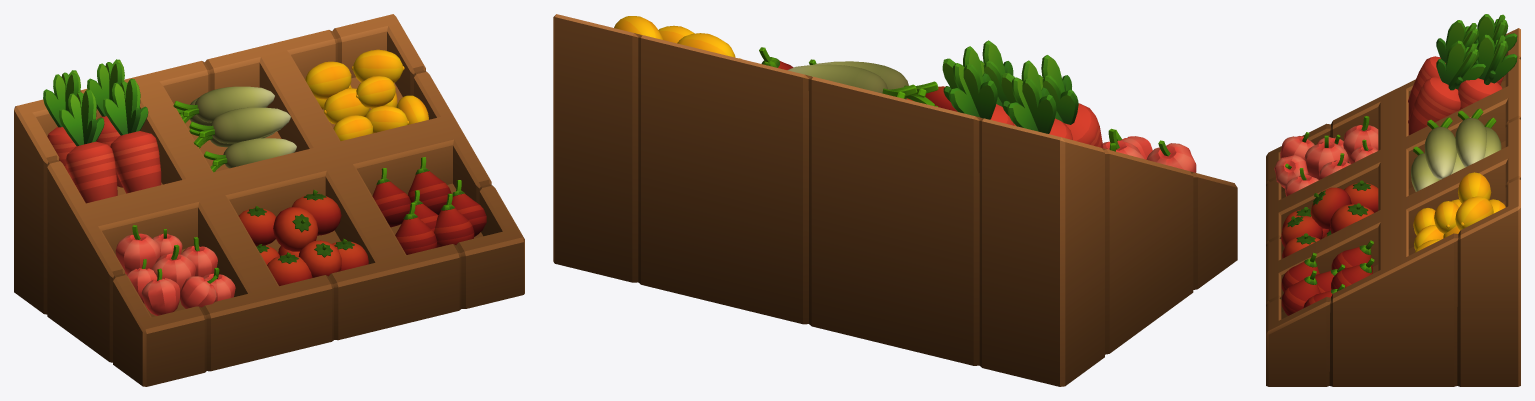
Rendered from Stall-0-1-M.fbx.
3 renders of one model, left to right at view 1: azimuth 30°, elevation 25°; view 2: azimuth 150°, elevation 25°; view 3: azimuth 270°, elevation 25°, orthographic. The views are drawn at different scales.
Visible parts, largest first — view 1: Stall-0-1-M; view 2: Stall-0-1-M; view 3: Stall-0-1-M.
Part boxes in pixels (box(x1,y1,x2,y2)): Stall-0-1-M: box(14, 14, 524, 386); Stall-0-1-M: box(553, 14, 1237, 386); Stall-0-1-M: box(1266, 14, 1520, 386).
Bounding box in the file's own units: 335 × 184 × 200.
